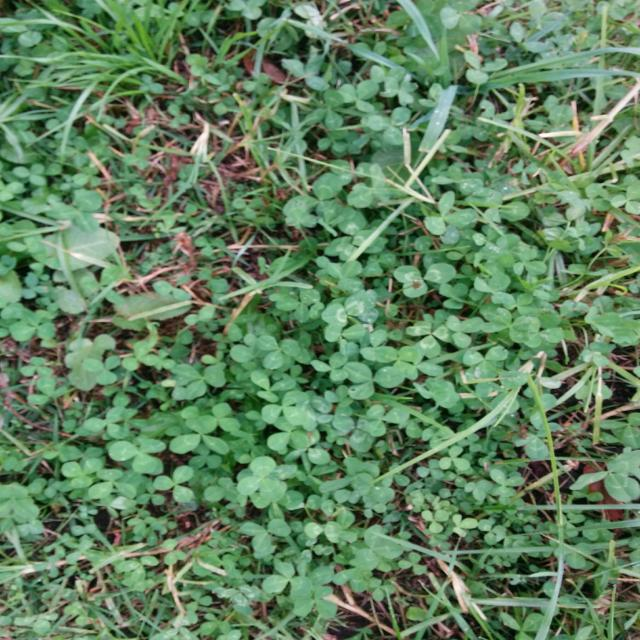Four Leaf Clover: (482, 314, 530, 343)
